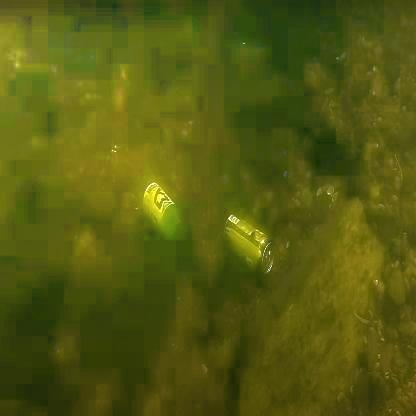can: (208, 206, 281, 294)
pbottle: (138, 150, 193, 256)
